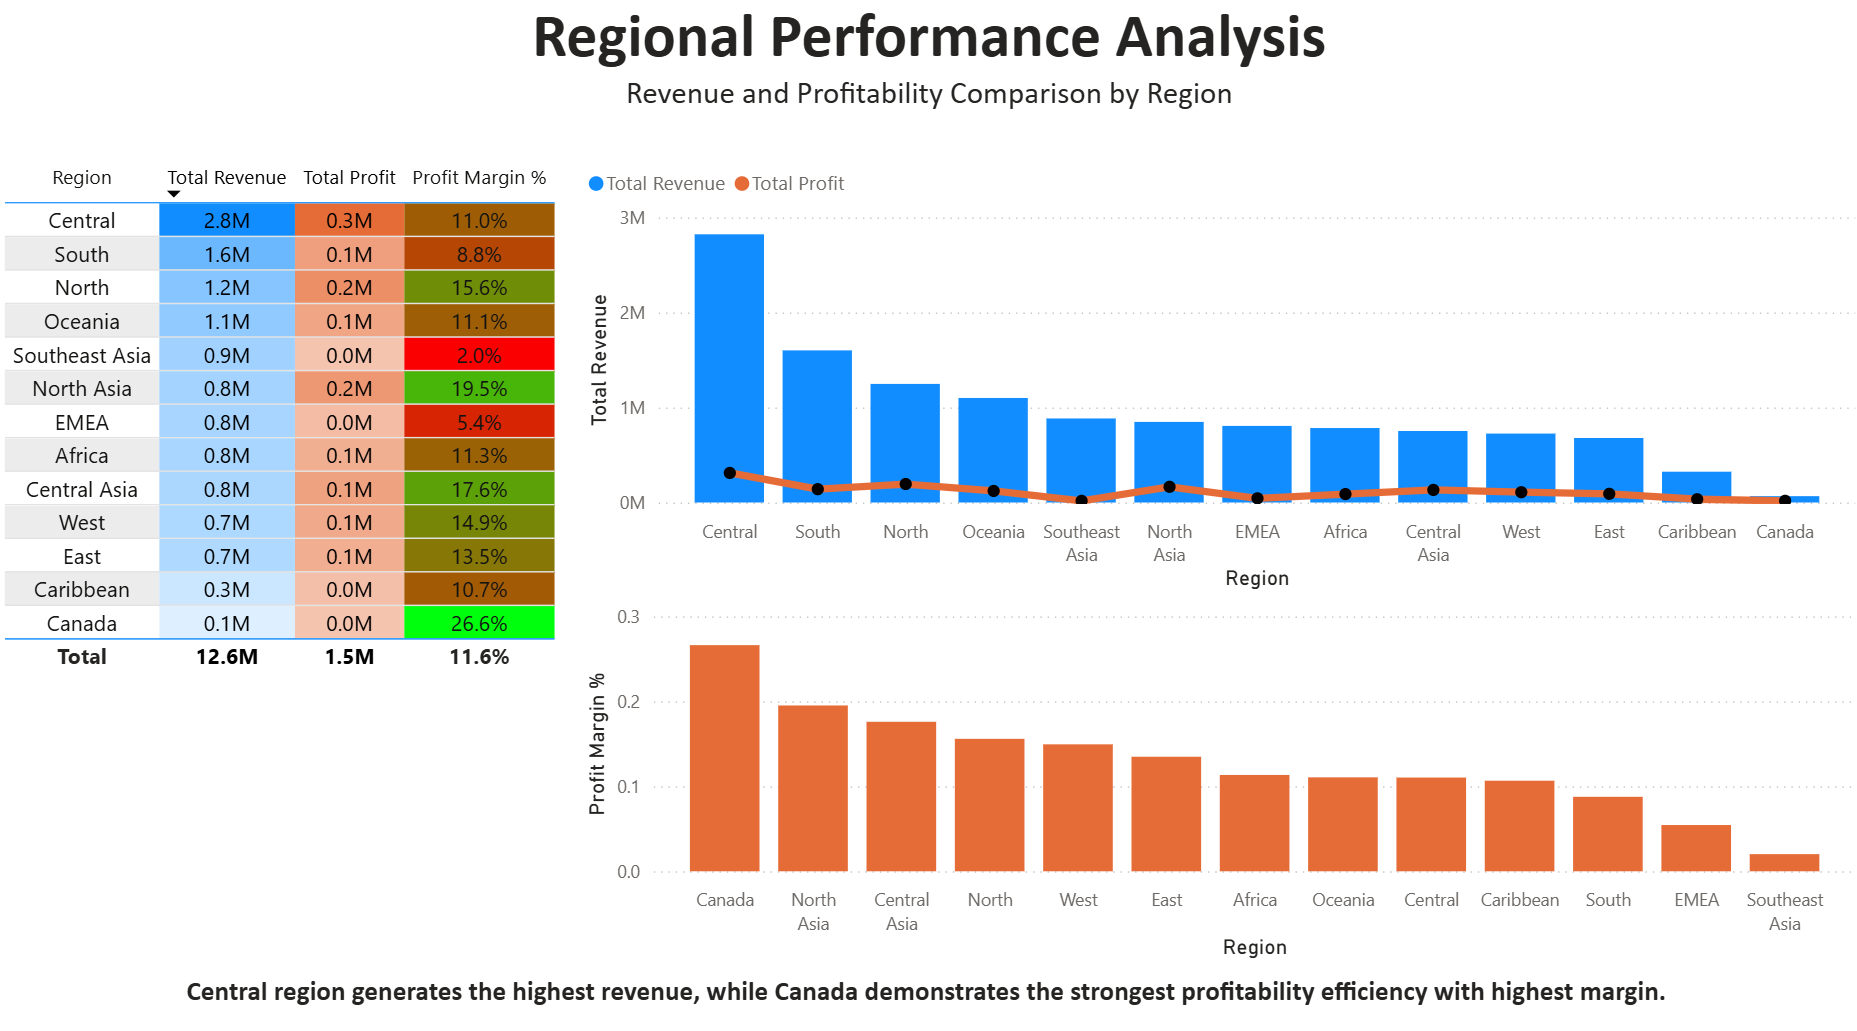

The page's visual inventory and layout, read from the dashboard file:
{"tool":"powerbi","page":{"name":"Page 2","canvas":[1280,720],"ordinal":1},"visuals":[{"type":"tableEx","fields":{"Values":["SuperStoreOrders.region","SuperStoreOrders.Total Revenue","SuperStoreOrders.Total Profit","SuperStoreOrders.Profit Margin %"]},"box":[0,112.2,388.2,365.5],"z":0},{"type":"textbox","box":[0,0,1280,91],"z":1000},{"type":"lineStackedColumnComboChart","fields":{"Y":["SuperStoreOrders.Total Revenue"],"Category":["SuperStoreOrders.region"],"Y2":["SuperStoreOrders.Total Profit"]},"box":[400.4,112.2,879.6,303.3],"z":2000},{"type":"columnChart","fields":{"Y":["SuperStoreOrders.Profit Margin %"],"Category":["SuperStoreOrders.region"]},"box":[398.9,415.5,881.1,253.3],"z":3000},{"type":"textbox","box":[0,668.8,1280,40.9],"z":4000}]}

Visuals, with their boxes in screenshot pixels (x1, y1, x2, y2), scaled from the page's 1280x720 canvas onto the 1857x1031 screenshot:
tableEx - SuperStoreOrders.region x SuperStoreOrders.Total Revenue: BBox(0, 161, 563, 684)
textbox: BBox(0, 0, 1856, 130)
lineStackedColumnComboChart - SuperStoreOrders.Total Revenue x SuperStoreOrders.region: BBox(581, 161, 1856, 595)
columnChart - SuperStoreOrders.Profit Margin % x SuperStoreOrders.region: BBox(579, 595, 1856, 958)
textbox: BBox(0, 958, 1856, 1016)
